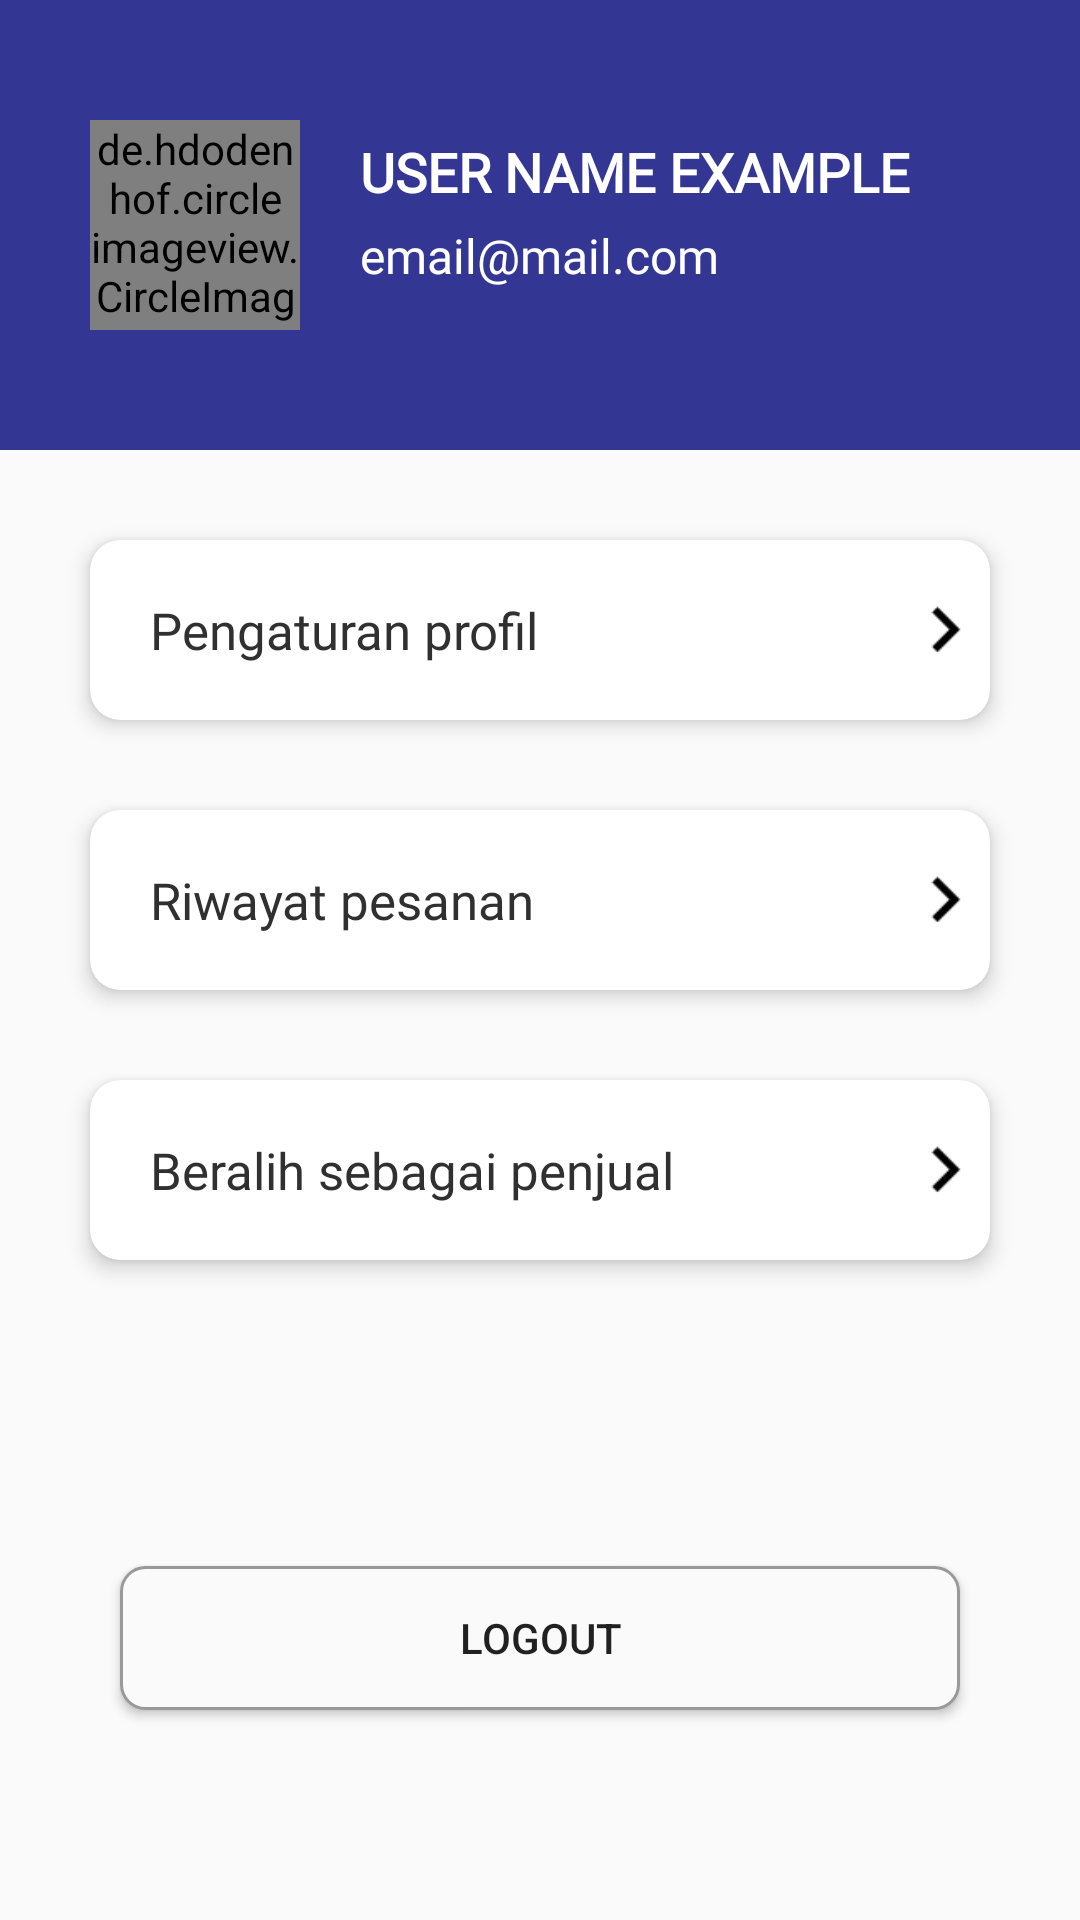

Icons on this 1080 x 1920 Android screen, each with its box as BBox(x1, y1, x2, y2):
keyboard arrow right: BBox(931, 606, 961, 652), BBox(931, 876, 961, 922), BBox(931, 1146, 961, 1192)
